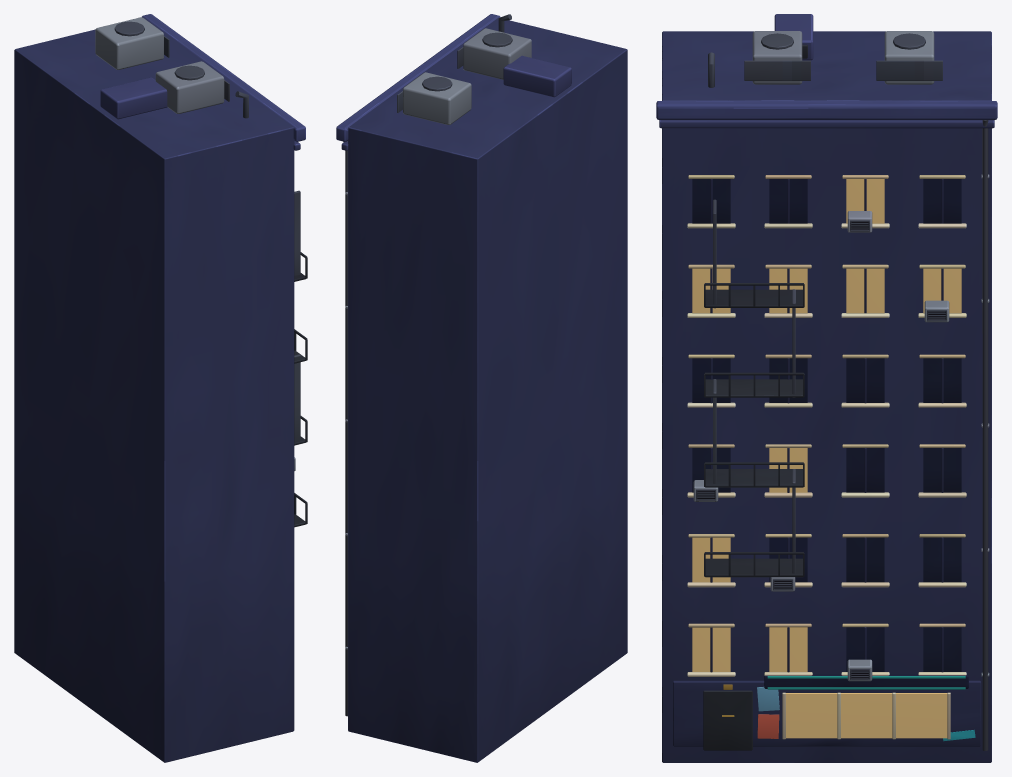
Rendered from SM_Studio_StreetBlock_B.fbx.
3 renders of one model, left to right at view 1: azimuth 30°, elevation 25°; view 2: azimuth 150°, elevation 25°; view 3: azimuth 270°, elevation 25°, orthographic. The views are drawn at different scales.
Visible parts, largest first — view 1: SM_Studio_StreetBlock_B; view 2: SM_Studio_StreetBlock_B; view 3: SM_Studio_StreetBlock_B.
Boxes of the visible parts, bbox=[...] form: SM_Studio_StreetBlock_B: bbox=[14, 14, 307, 762]; SM_Studio_StreetBlock_B: bbox=[336, 14, 627, 762]; SM_Studio_StreetBlock_B: bbox=[656, 14, 997, 762].
Size of the model in its own units: 374 by 1395 by 620.
